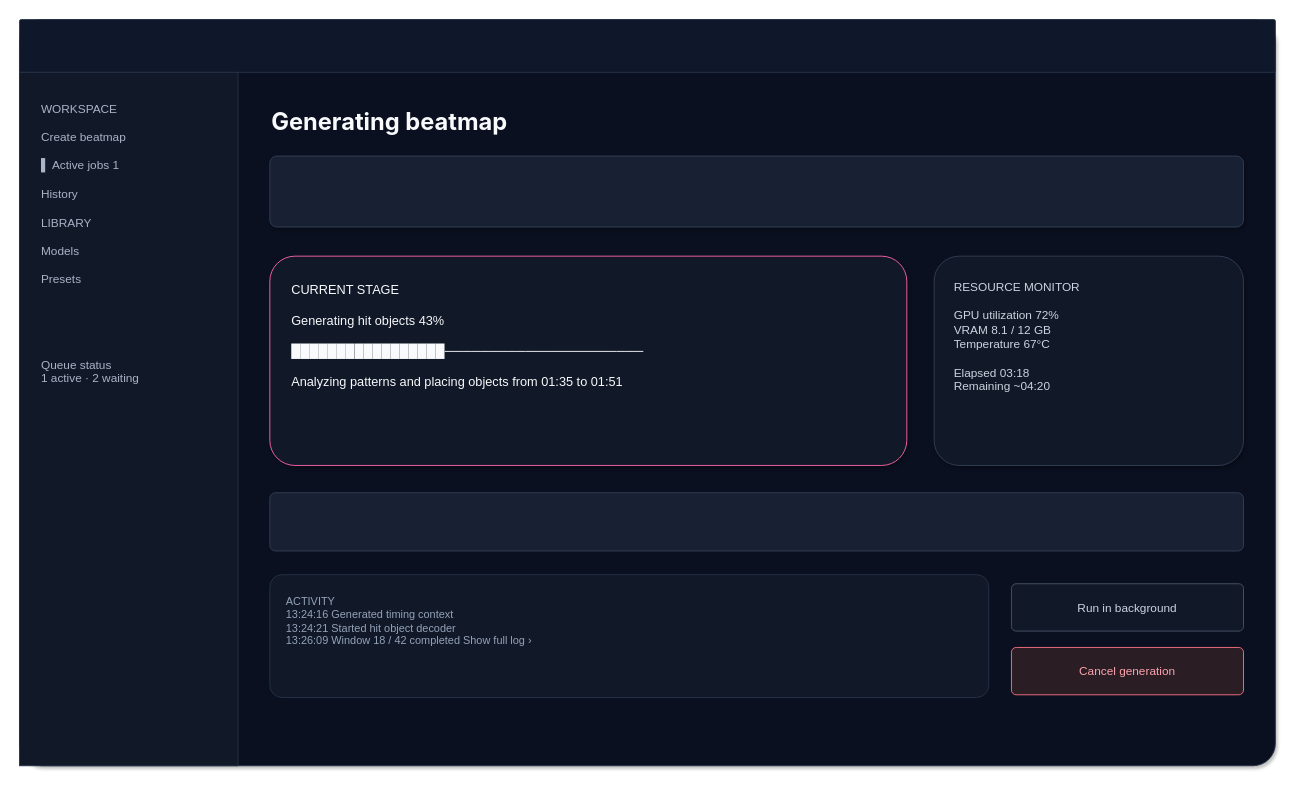
The diagram is 1297 pixels wide and 788 high, and some of its shapes have lost their labels. Here are the shapes that lost their labels. From the top down, the centre of each, then its label:
the point at 647,45: ◆ BEATFORGE Generation job #0142 ● GPU Active ⌁ Settings
the point at 757,192: ♫ Camellia — Example Song osu!standard · 5.5★ · AI Insane · Mapperatorinator V32
the point at 756,521: ✓ Prepare audio ✓ Load model ● Generate ○ Refine ○ Package
